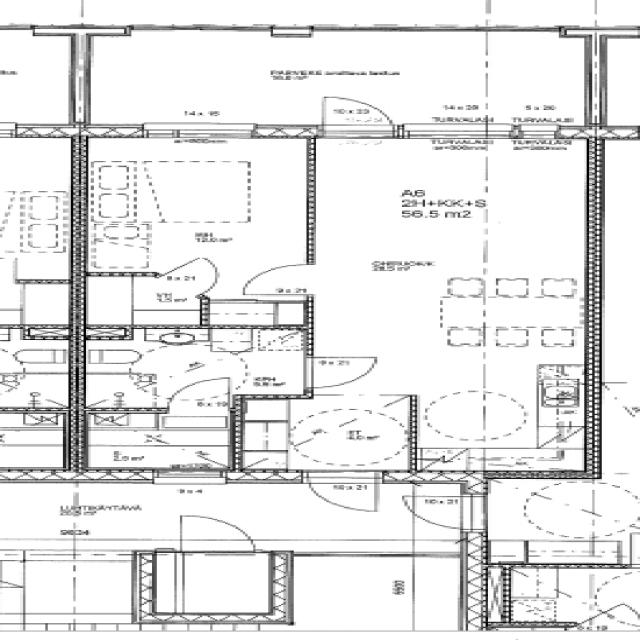door: (306, 471, 379, 520), (322, 91, 394, 139), (158, 257, 242, 297), (306, 358, 376, 388), (243, 265, 314, 294), (170, 380, 229, 414)
